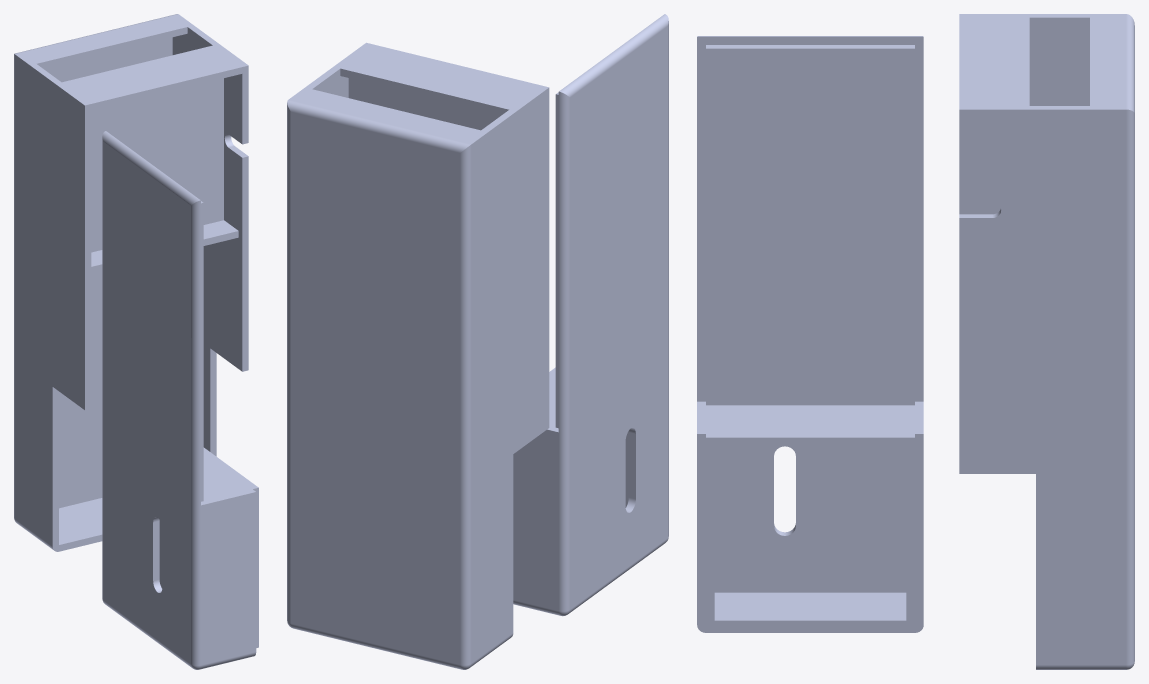
Rendered from Simon_Box_Assy.glb.
3 views of the same model, side by side, from view 1: azimuth 30°, elevation 25°; view 2: azimuth 150°, elevation 25°; view 3: azimuth 270°, elevation 25° (orthographic). The views are drawn at different scales.
Visible parts, largest first — view 1: Simon Box-1, Simon Box Lid-1; view 2: Simon Box-1, Simon Box Lid-1; view 3: Simon Box Lid-1, Simon Box-1.
Part boxes in pixels (x1,y1,x2,y2): Simon Box-1: (14, 14, 248, 551); Simon Box Lid-1: (102, 131, 258, 669); Simon Box-1: (287, 42, 549, 669); Simon Box Lid-1: (513, 14, 668, 616); Simon Box Lid-1: (697, 36, 923, 632); Simon Box-1: (959, 14, 1134, 669).
Bounding box in the file's own units: 0.0654 × 0.186 × 0.1266.
